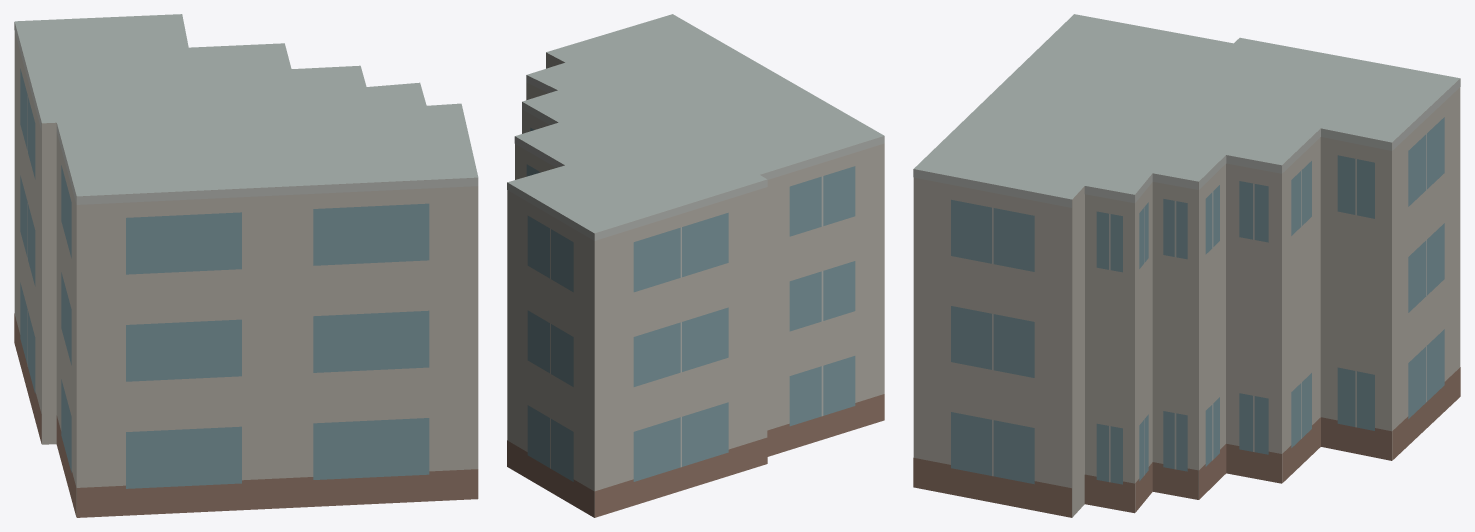
The model's file is survey-upis-32680845.glb.
The picture shows the model from 3 angles, left to right: view 1: azimuth 30°, elevation 25°; view 2: azimuth 150°, elevation 25°; view 3: azimuth 270°, elevation 25°; orthographic projection. The views are drawn at different scales.
Parts seen in each view (by area): view 1: survey-upis-32680845.tmp; view 2: survey-upis-32680845.tmp; view 3: survey-upis-32680845.tmp.
Part boxes in pixels (x1,y1,x2,y2): survey-upis-32680845.tmp: [14, 14, 478, 517]; survey-upis-32680845.tmp: [507, 14, 884, 517]; survey-upis-32680845.tmp: [913, 14, 1460, 517].
Bounding box in the file's own units: 11.45 × 9.15 × 14.26.
